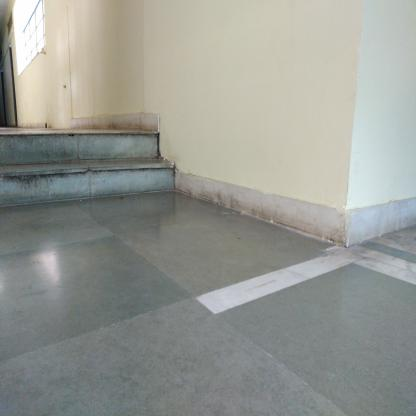stairs: (1, 127, 162, 206)
